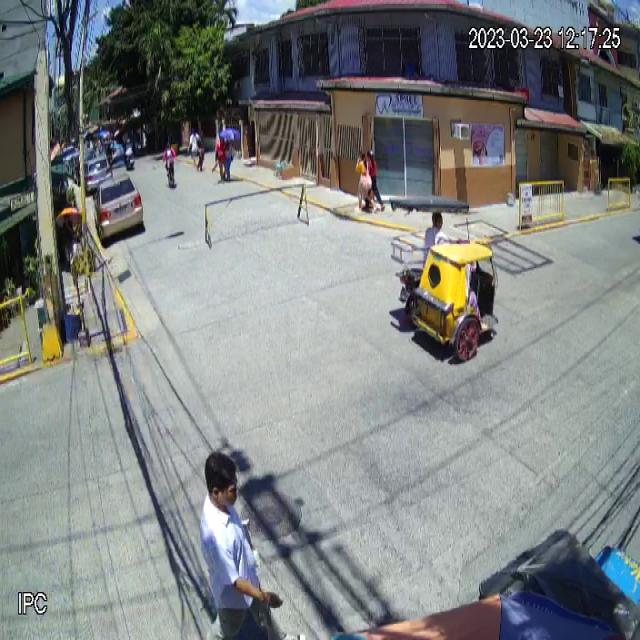Tricycle: (389, 194, 499, 361)
